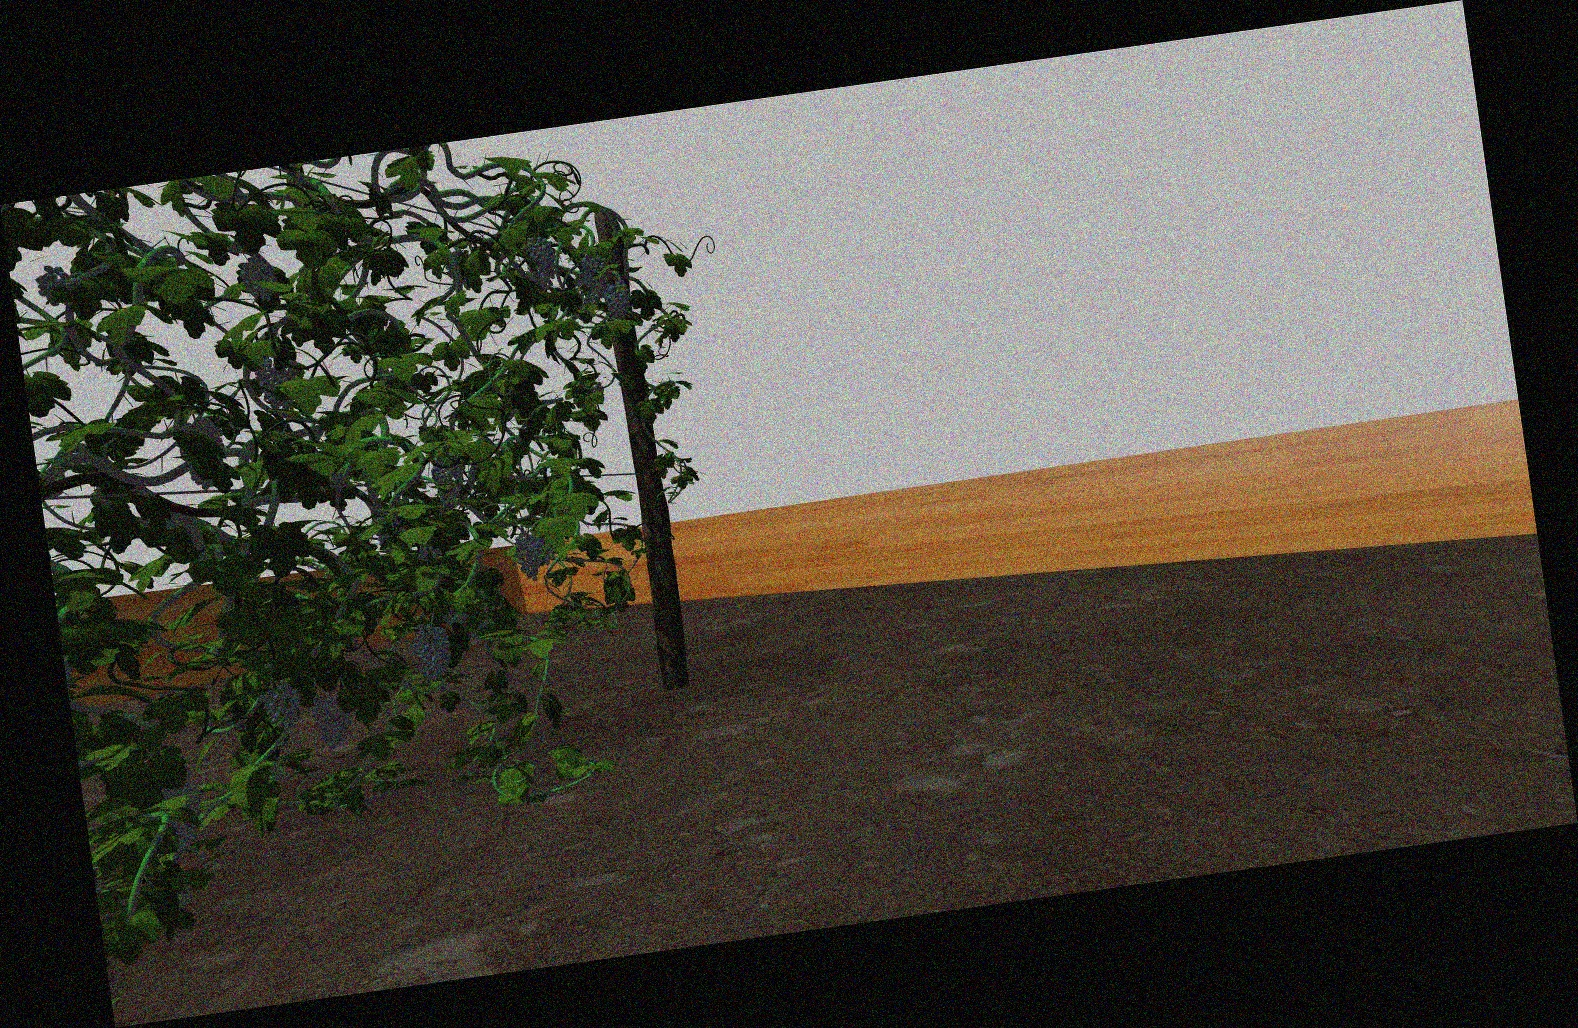grape: (158, 775, 205, 853), (181, 419, 228, 490), (256, 356, 306, 412), (311, 692, 355, 750), (414, 622, 453, 681), (239, 255, 279, 304), (265, 685, 302, 734), (431, 452, 468, 501), (35, 264, 77, 307), (528, 235, 558, 293), (580, 255, 611, 302), (516, 531, 539, 582), (606, 283, 631, 322), (536, 527, 559, 566)
